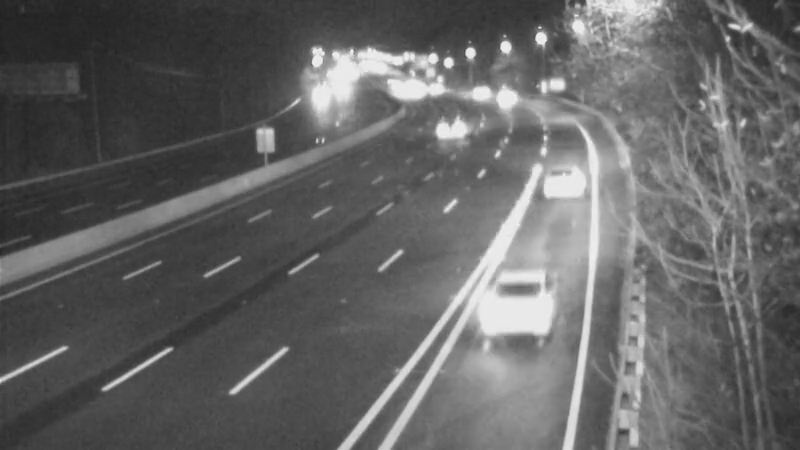vehicle: (458, 260, 568, 370), (521, 145, 601, 225), (453, 64, 503, 114), (484, 71, 534, 121), (429, 100, 479, 150), (298, 70, 348, 120)
